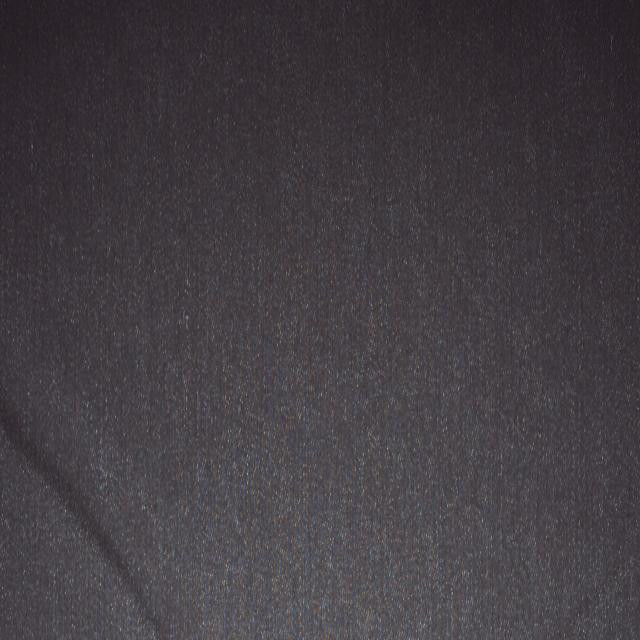broken_yarn: (7, 398, 169, 639)
